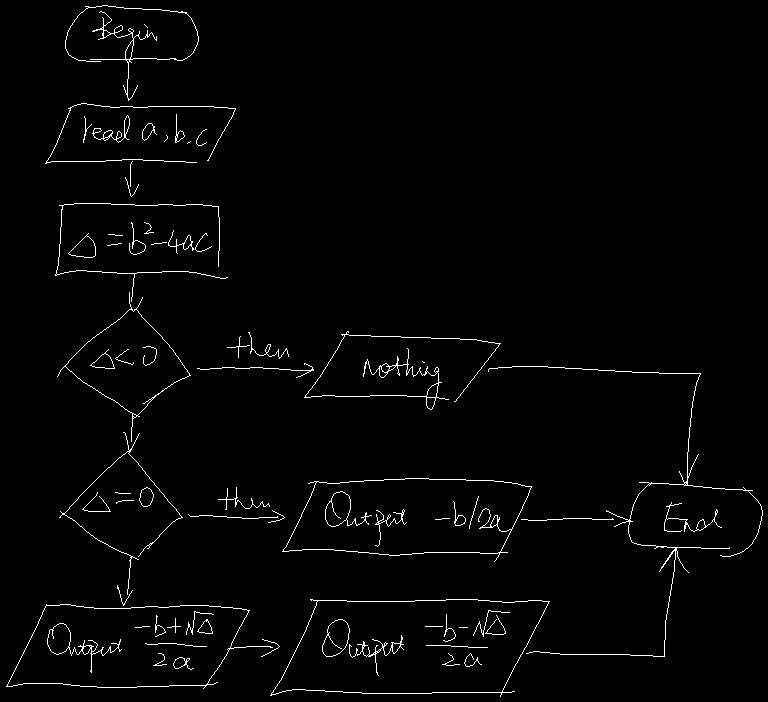arrow: (488, 366, 700, 485), (526, 547, 688, 656), (521, 510, 632, 526), (197, 363, 313, 377), (188, 510, 284, 522), (227, 639, 279, 656), (117, 557, 132, 605), (123, 414, 139, 452), (123, 61, 137, 100), (129, 273, 142, 311), (125, 161, 138, 196)
data: (270, 599, 549, 696), (282, 478, 531, 561), (6, 604, 249, 688), (304, 331, 500, 401), (45, 103, 235, 163)
decision: (57, 309, 190, 418), (59, 449, 182, 559)
process: (55, 203, 227, 278)
terminator: (628, 482, 762, 556), (65, 5, 198, 61)
text: (322, 610, 509, 675), (325, 491, 510, 546), (47, 611, 213, 672), (68, 222, 211, 257), (363, 348, 441, 409), (83, 114, 206, 145), (92, 11, 156, 63), (82, 487, 153, 511), (664, 502, 721, 531), (227, 332, 288, 358), (90, 346, 156, 368), (218, 487, 269, 509)
